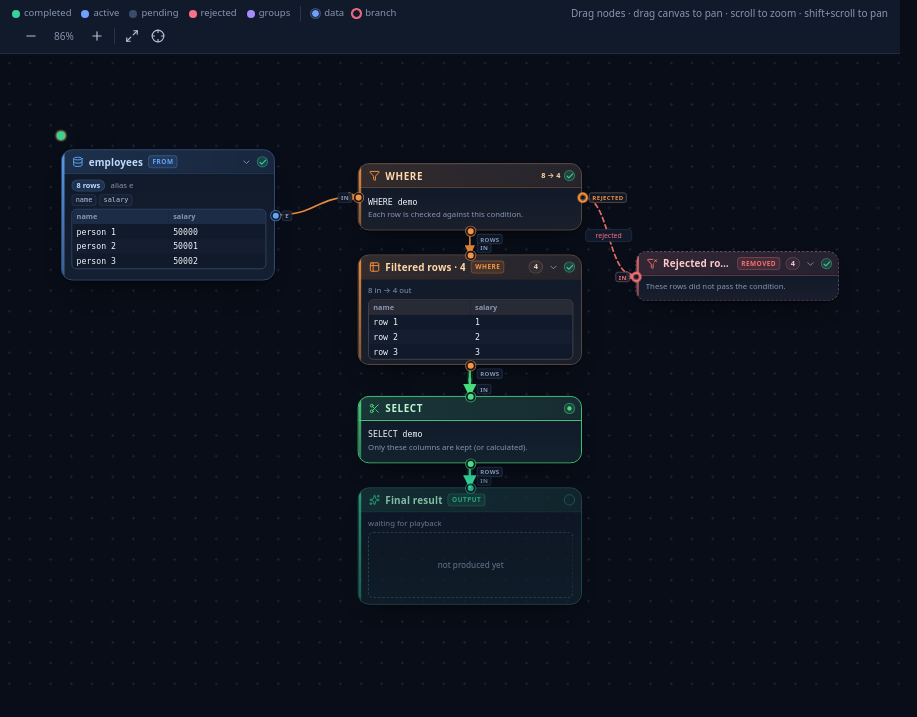
Test: FlowCanvas › stops the flow at a hovered WHERE and leaves downstream nodes still
Hover over the button with aria-label "Operation WHERE" at (470, 197), box x1=358 y1=163 x2=582 y2=230
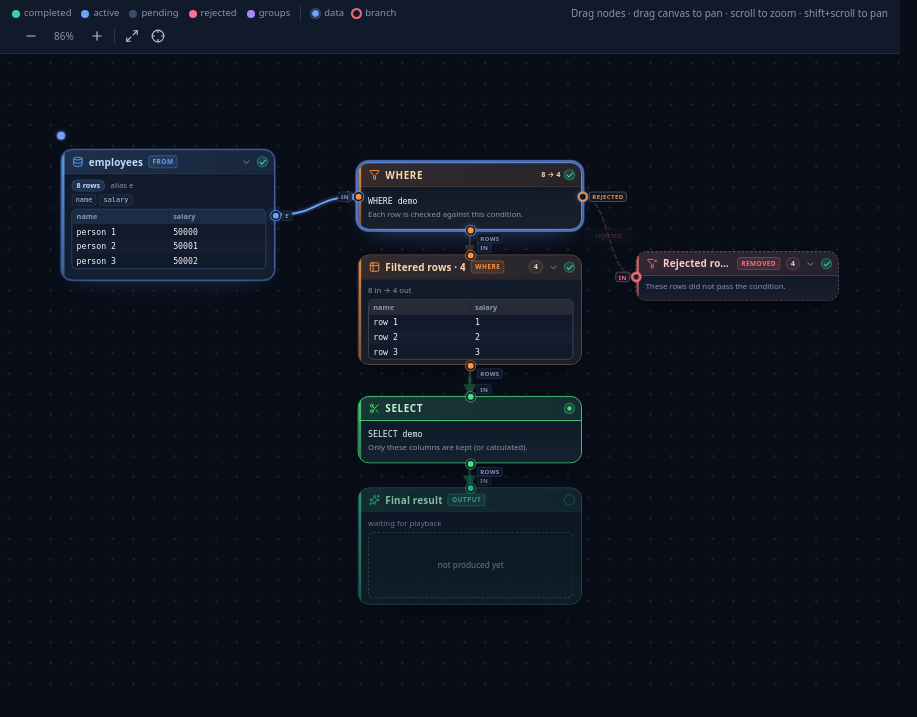
Now the button with aria-label "Operation WHERE" has attribute data-hovered="true", box x1=358 y1=162 x2=582 y2=230
Now the element named "Animated SQL data-flow canvas" has attribute data-hovered-node="op-WHERE"
Now the element named "Animated SQL data-flow canvas" has attribute data-trace-mode="hover"
